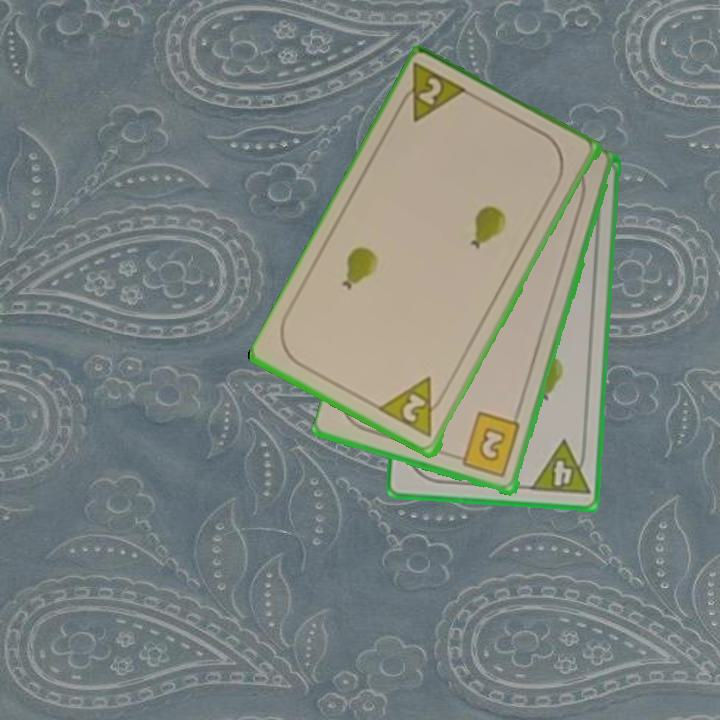2b: (450, 409, 524, 481)
2p: (392, 60, 473, 126), (377, 374, 449, 441)
4p: (527, 437, 593, 499)
